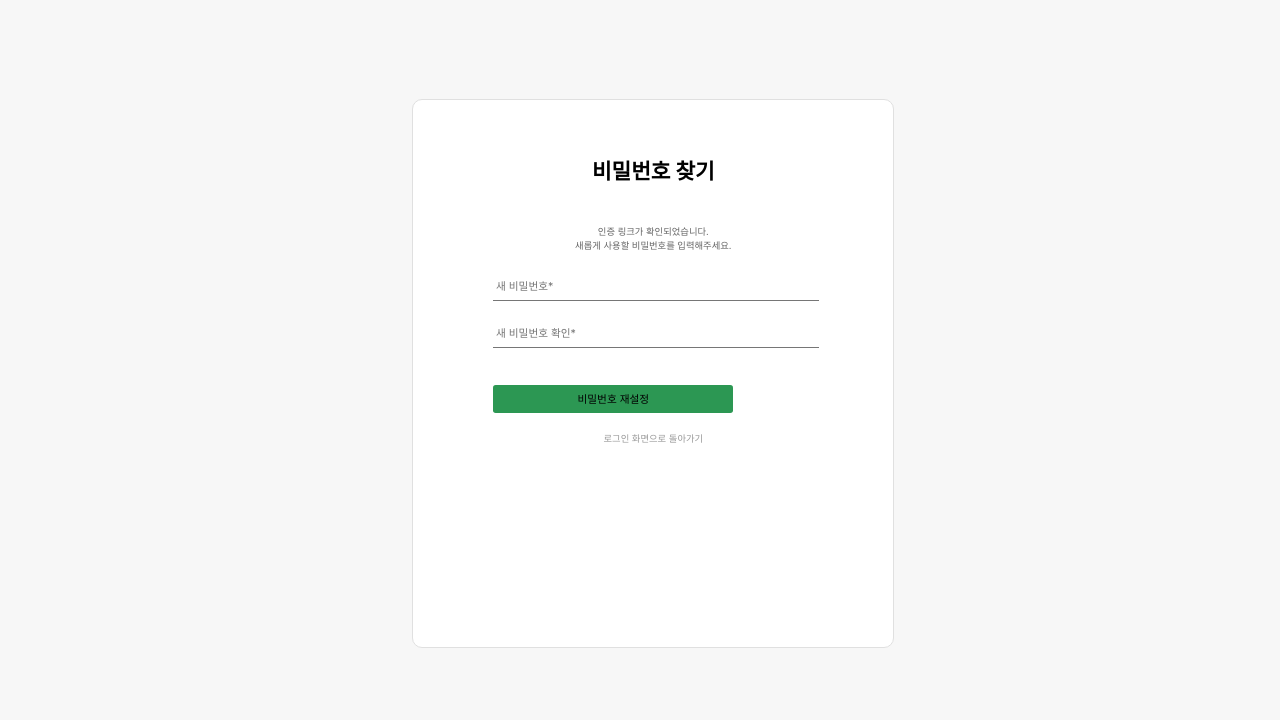
Test: PasswordFindPage 컴포넌트 테스트 › URL code로 비밀번호 재설정 요청을 보내고 성공 모달이 나타나야 합니다
Type "newPassword123" into the password field with placeholder "새 비밀번호*" at (656, 287), box [493,273,819,301]
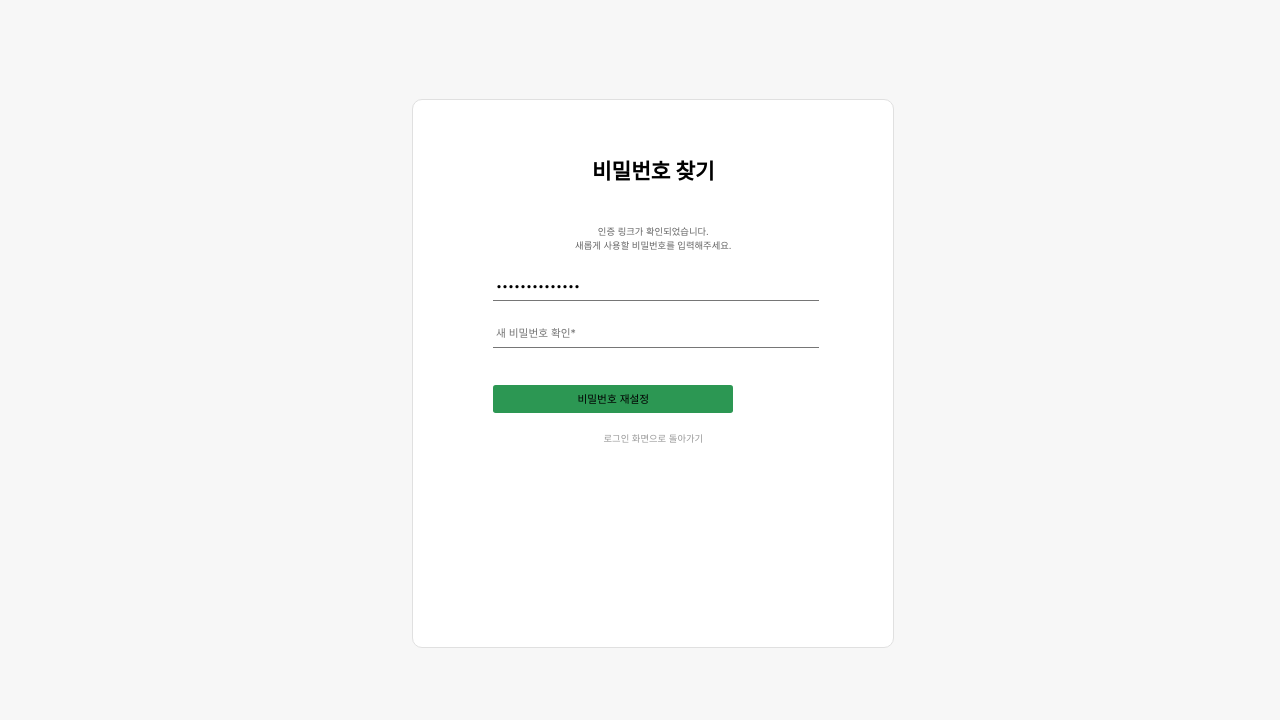
Type "newPassword123" into the password field with placeholder "새 비밀번호 확인*" at (656, 334), box [493,321,819,348]
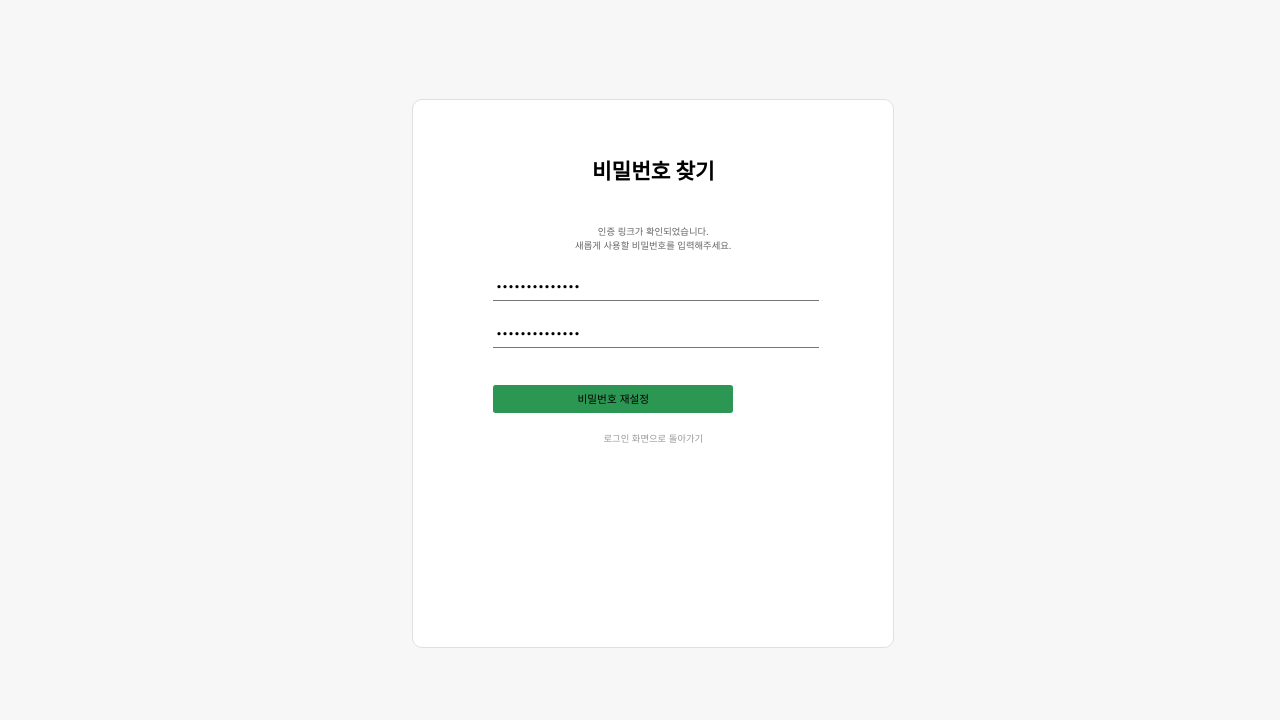
// [비밀번호 재설정] 버튼 클릭
Click the button "비밀번호 재설정" at (613, 399), box [493,384,733,413]
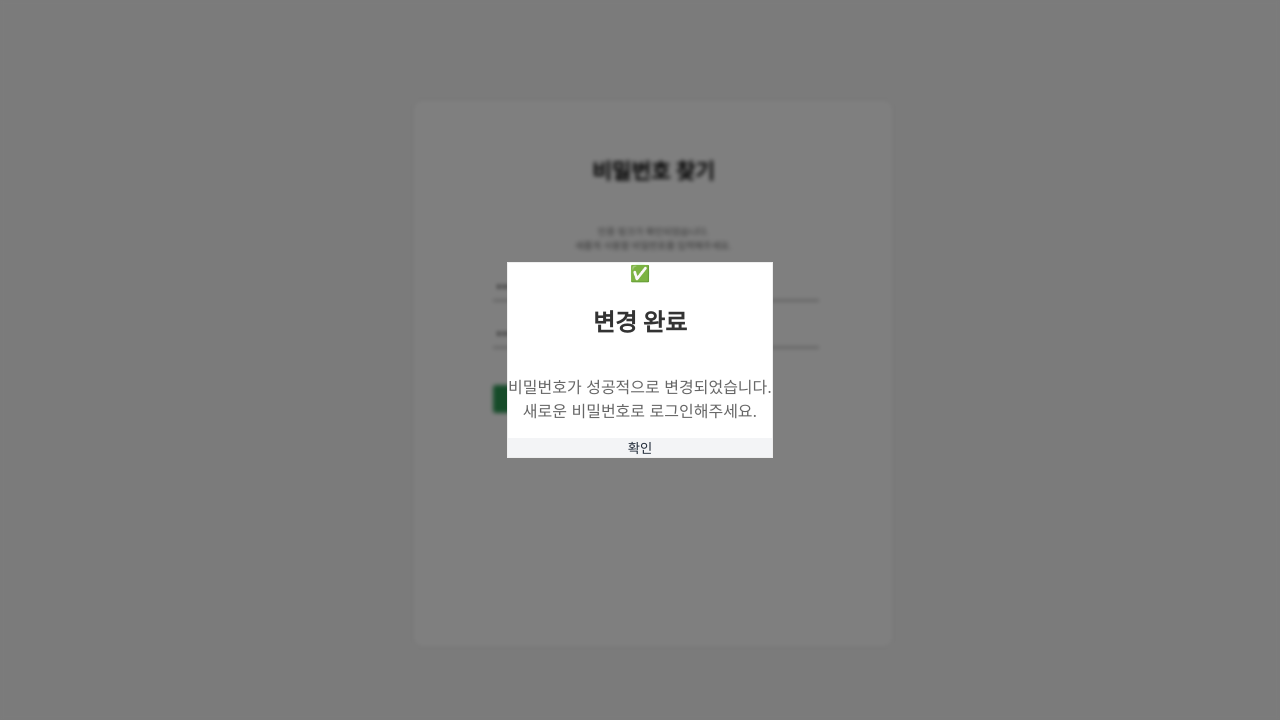
Result: the text "비밀번호가 성공적으로 변경되었습니다. 새로운 비밀번호로 로그인해주세요." is shown at [508,374,772,422]
